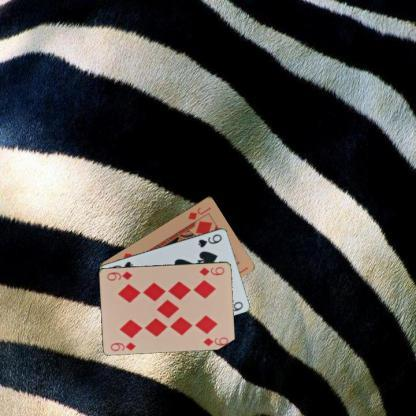9d: (196, 264, 226, 277), (108, 339, 137, 352)
9s: (196, 231, 223, 249)
Jd: (186, 204, 212, 221)
